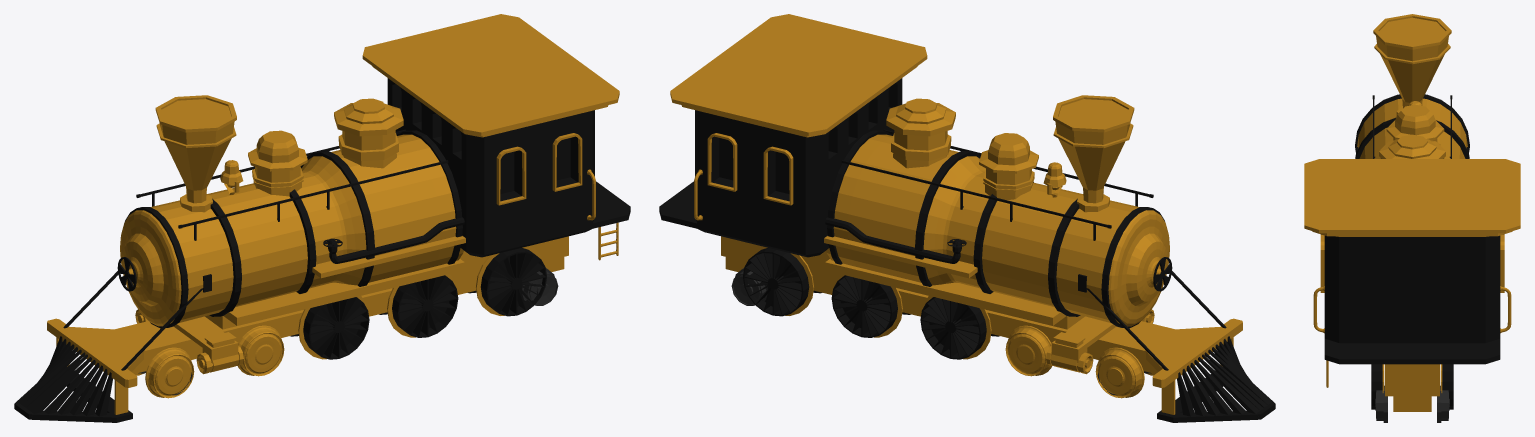
File: SteamTrain.glb
3 renders of one model, left to right at view 1: azimuth 30°, elevation 25°; view 2: azimuth 150°, elevation 25°; view 3: azimuth 270°, elevation 25°, orthographic. The views are drawn at different scales.
Parts seen in each view (by area): view 1: Locomotive, BigWheels3, BigWheels1, BigWheels2, SmallWheels1, SmallWheels_2, BackWheels; view 2: Locomotive, BigWheels3, BigWheels1, BigWheels2, SmallWheels1, SmallWheels_2, BackWheels; view 3: Locomotive, BigWheels3, BackWheels.
Part boxes in pixels (x1,y1,x2,y2): Locomotive: [14, 14, 630, 422]; BigWheels3: [467, 245, 546, 316]; BigWheels1: [290, 296, 369, 359]; BigWheels2: [379, 274, 458, 337]; SmallWheels1: [134, 347, 194, 398]; SmallWheels_2: [238, 325, 284, 376]; BackWheels: [522, 268, 558, 305]; Locomotive: [659, 14, 1275, 422]; BigWheels3: [743, 245, 822, 316]; BigWheels1: [920, 296, 999, 359]; BigWheels2: [831, 274, 910, 337]; SmallWheels1: [1095, 347, 1155, 398]; SmallWheels_2: [1005, 325, 1051, 376]; BackWheels: [731, 268, 767, 305]; Locomotive: [1304, 14, 1520, 411]; BigWheels3: [1371, 364, 1453, 409]; BackWheels: [1375, 385, 1449, 422].
Size of the model in its own units: 8.09 by 3.58 by 2.87.
